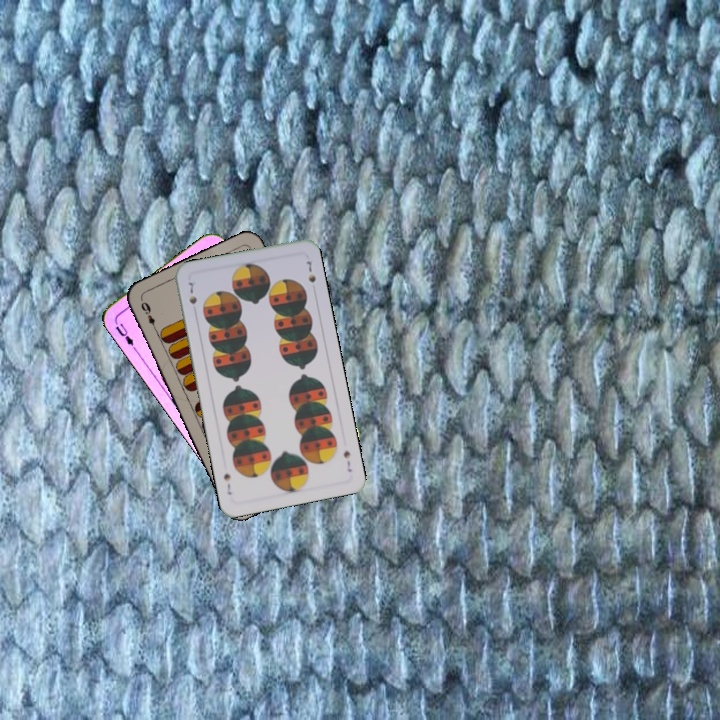E9: (137, 298, 160, 335)
EU: (111, 316, 139, 353)
S7: (185, 277, 200, 307), (339, 446, 355, 474)
